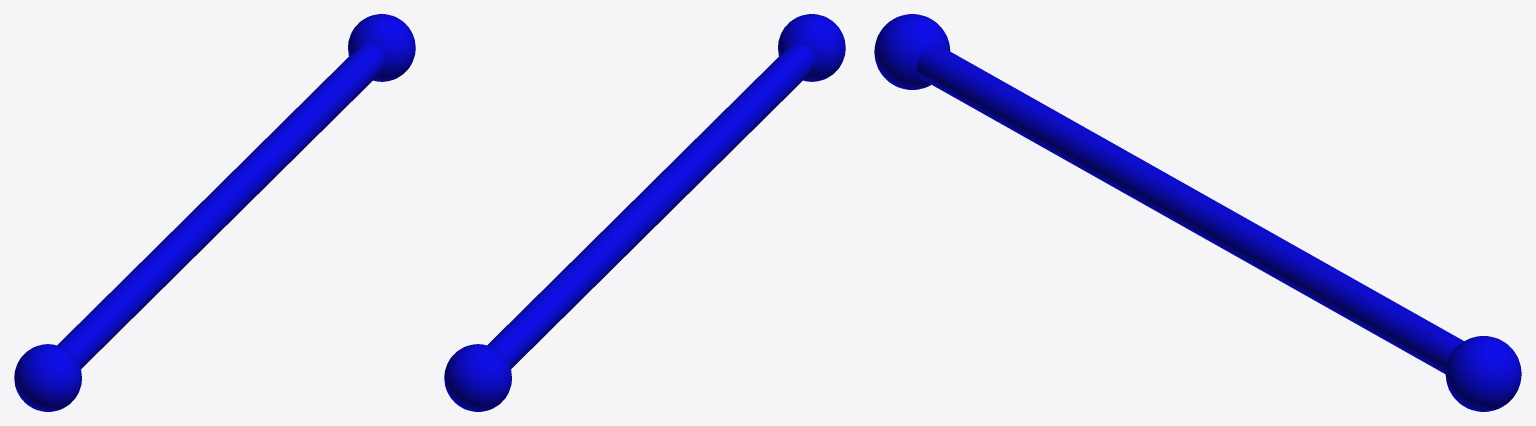
3 views of the same model, side by side, from view 1: azimuth 30°, elevation 25°; view 2: azimuth 210°, elevation 25°; view 3: azimuth 270°, elevation 25° (orthographic). The views are drawn at different scales.
Parts seen in each view (by area): view 1: _path.001, B, A; view 2: _path.001, A, B; view 3: _path.001, A, B.
Boxes of the visible parts, x1,y1,x2,y2 form: _path.001: (57, 43, 385, 368); B: (14, 344, 81, 411); A: (348, 14, 415, 81); _path.001: (487, 43, 815, 368); A: (444, 344, 511, 411); B: (778, 14, 845, 81); _path.001: (916, 45, 1463, 373); A: (1445, 336, 1521, 411); B: (874, 14, 950, 89).
Bounding box in the file's own units: 2.2 × 0.2 × 1.7.
